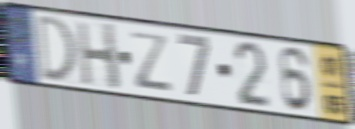2: (232, 39, 272, 110)
6: (277, 45, 313, 115)
7: (175, 31, 213, 101)
D: (35, 12, 78, 83)
H: (74, 20, 123, 93)
Z: (127, 29, 174, 94)
